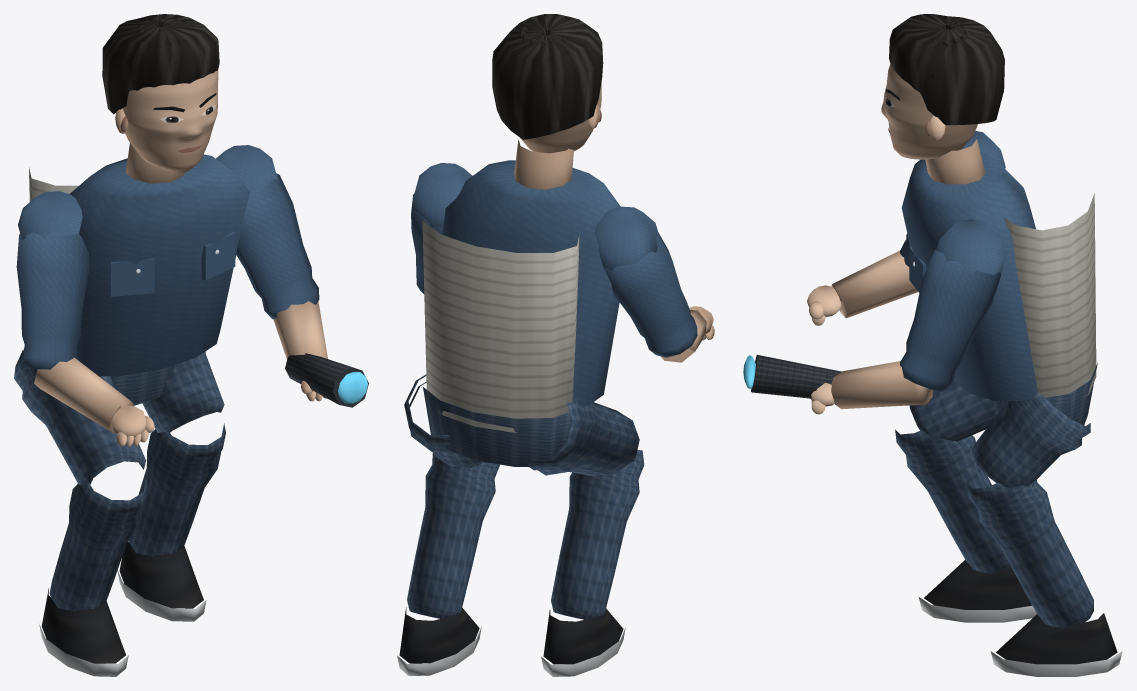
File: HERO-03_kolya-crouched.glb
The picture shows the model from 3 angles, left to right: view 1: azimuth 30°, elevation 25°; view 2: azimuth 150°, elevation 25°; view 3: azimuth 270°, elevation 25°; orthographic projection. The views are drawn at different scales.
Visible parts, largest first — view 1: kolya · soles; view 2: kolya · soles; view 3: kolya · soles.
Part boxes in pixels (left/top/right/bottom): kolya · soles: left=14, top=14, right=368, bottom=676; kolya · soles: left=397, top=14, right=714, bottom=676; kolya · soles: left=743, top=14, right=1122, bottom=676.
Bounding box in the file's own units: 0.6443 × 1.34 × 0.7526.
Materials: 2 (2 with a texture image).
